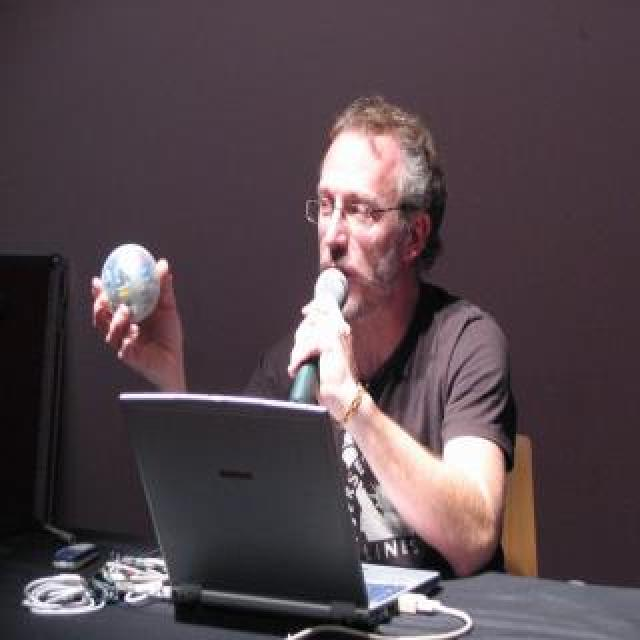laptop_computer: (98, 380, 442, 640)
